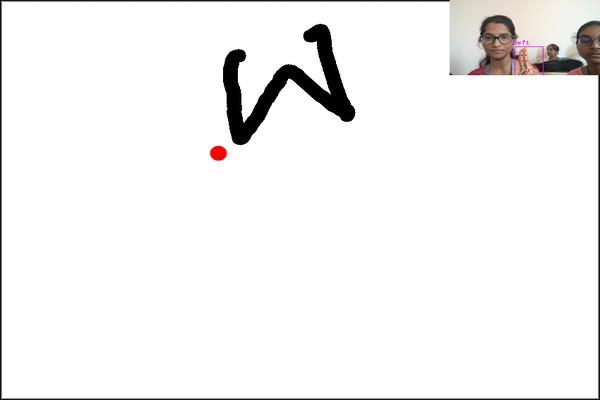w: (213, 17, 410, 144)
